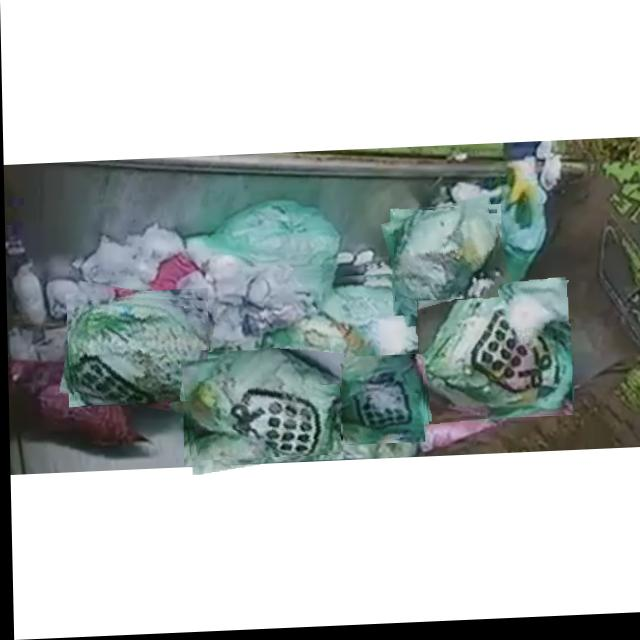general_trashbag: (418, 291, 569, 423), (263, 279, 423, 387), (185, 351, 338, 459), (68, 299, 207, 404), (394, 210, 496, 305), (341, 359, 422, 441)
